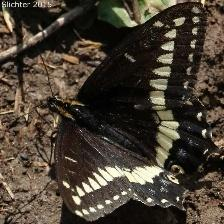butterfly: (49, 3, 220, 224)
